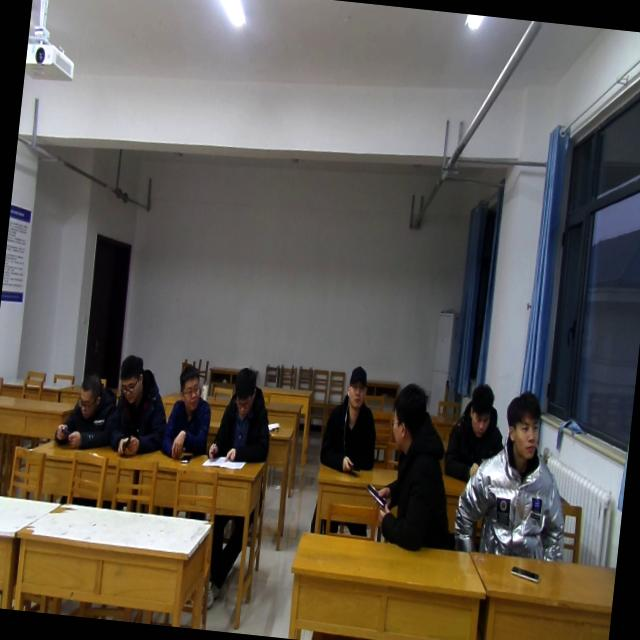bow: (52, 368, 118, 456)
down: (229, 360, 262, 423), (464, 377, 496, 440), (115, 352, 148, 408), (73, 368, 105, 423)
lookup: (501, 385, 548, 465), (343, 359, 372, 413)
sit: (448, 381, 582, 566), (366, 380, 466, 558), (317, 362, 387, 476), (98, 351, 172, 458), (441, 378, 514, 484), (208, 363, 278, 465), (156, 363, 216, 465)
